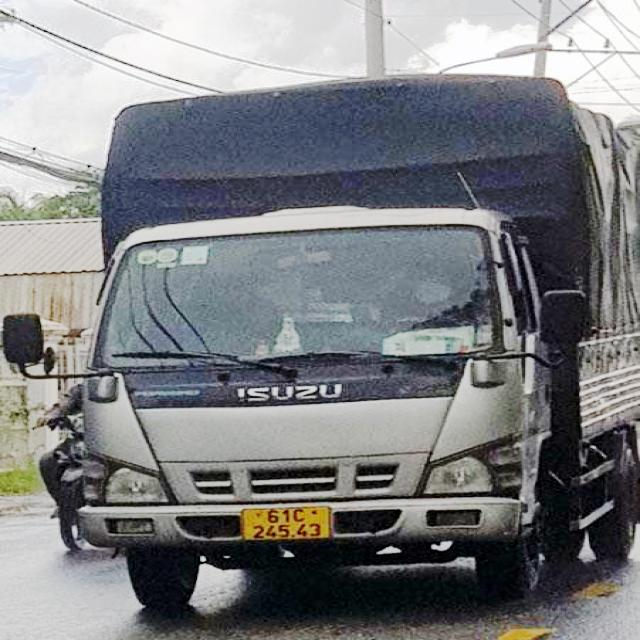license_plate: (240, 507, 332, 543)
